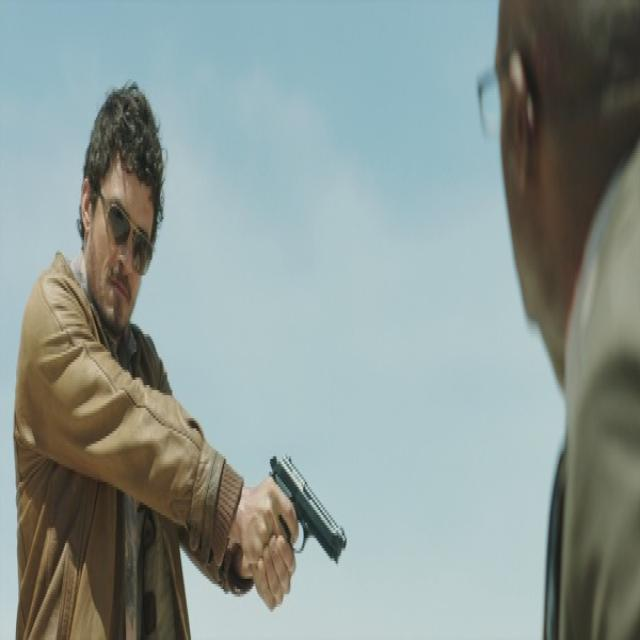weapons: (254, 431, 362, 624)
